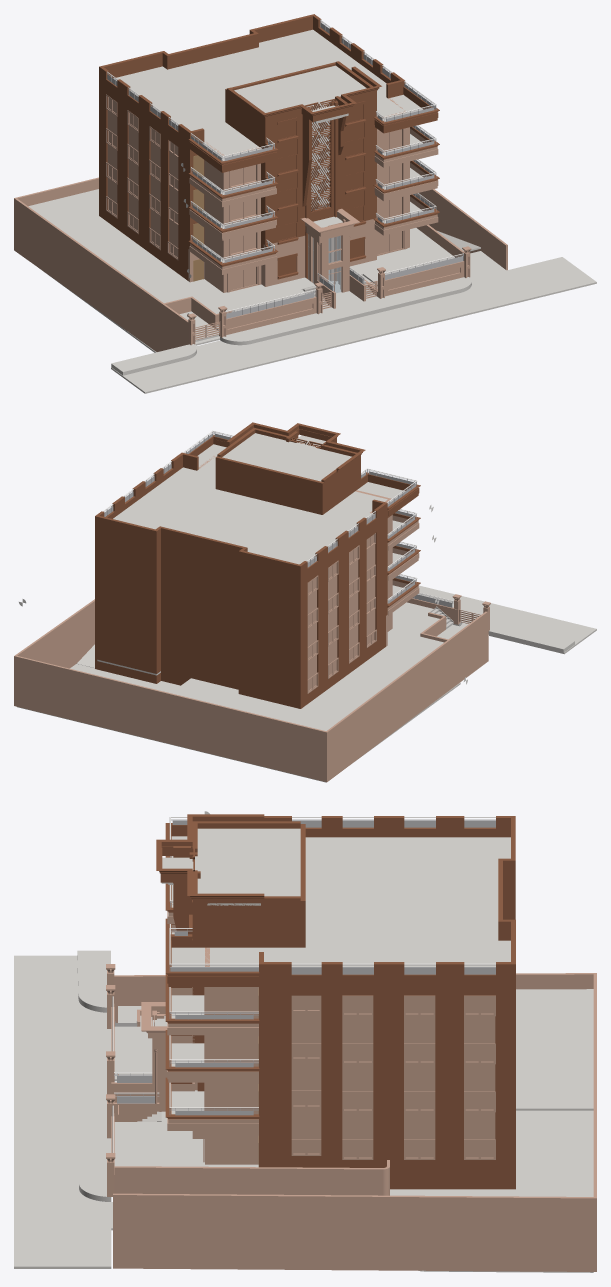
Rendered from villa.glb.
The picture shows the model from 3 angles, top to bottom: view 1: azimuth 30°, elevation 25°; view 2: azimuth 150°, elevation 25°; view 3: azimuth 270°, elevation 25°; orthographic projection. The views are drawn at different scales.
Visible parts, largest first — view 1: Floor Generic 150mm 8 [526761], Floor Generic 150mm [468300], Floor Generic 150mm 9 [529306], Basic Wall Generic - 200mm 14 [525457], Basic Wall Generic - 300mm 10 [352356], Floor Generic 150mm 10 [544870], Walls 5 Walls 5 [567814], Basic Wall Generic - 200mm 26 [570264], Floor Generic 150mm 7 [517430], Basic Wall Generic - 200mm 30 [628666], Basic Wall Generic - 200mm 26 [569431], Basic Wall Generic - 200mm 14 [525061] (+31 smaller); view 2: Basic Wall Generic - 200mm 14 [525209], Floor Generic 150mm [468300], Basic Wall Generic - 300mm [349264], Basic Wall Generic - 300mm [349681], Basic Wall Generic - 300mm [349041], Basic Wall Generic - 200mm 14 [525457], Floor Generic 150mm 9 [529306], Basic Wall Generic - 300mm 10 [352356], Basic Wall Generic - 300mm [467494], Floor Generic 150mm 7 [517430], Floor Generic 150mm 8 [526761], Basic Wall Generic - 200mm 14 [525061] (+11 smaller); view 3: Basic Wall Generic - 200mm 14 [525061], Basic Wall Generic - 300mm 10 [640570], Floor Generic 150mm [468300], Floor Generic 150mm 8 [526761], Floor Generic 150mm 9 [529306], Basic Wall Generic - 200mm 30 [640735], Floor Generic 150mm 8 [528079], Basic Wall Generic - 200mm 14 [526504], Floor Generic 150mm 7 [517430], Basic Wall Generic - 200mm 28 [640920], Floor Generic 150mm 10 [544870], Basic Wall Generic - 300mm [562164] (+23 smaller).
Boxes of the visible parts, left/top/right/bottom form: Floor Generic 150mm 8 [526761]: left=111, top=251, right=596, bottom=393; Floor Generic 150mm [468300]: left=113, top=29, right=423, bottom=160; Floor Generic 150mm 9 [529306]: left=28, top=189, right=454, bottom=313; Basic Wall Generic - 200mm 14 [525457]: left=15, top=198, right=189, bottom=351; Basic Wall Generic - 300mm 10 [352356]: left=101, top=67, right=190, bottom=280; Floor Generic 150mm 10 [544870]: left=111, top=277, right=471, bottom=375; Walls 5 Walls 5 [567814]: left=188, top=86, right=439, bottom=279; Basic Wall Generic - 200mm 26 [570264]: left=231, top=129, right=401, bottom=289; Floor Generic 150mm 7 [517430]: left=234, top=65, right=366, bottom=112; Basic Wall Generic - 200mm 30 [628666]: left=107, top=97, right=178, bottom=258; Basic Wall Generic - 200mm 26 [569431]: left=278, top=104, right=363, bottom=275; Basic Wall Generic - 200mm 14 [525061]: left=416, top=189, right=507, bottom=270; Basic Wall Generic - 200mm 14 [525209]: left=16, top=656, right=328, bottom=782; Floor Generic 150mm [468300]: left=113, top=444, right=405, bottom=564; Basic Wall Generic - 300mm [349264]: left=158, top=526, right=243, bottom=689; Basic Wall Generic - 300mm [349681]: left=95, top=515, right=155, bottom=683; Basic Wall Generic - 300mm [349041]: left=241, top=550, right=302, bottom=708; Basic Wall Generic - 200mm 14 [525457]: left=326, top=611, right=488, bottom=780; Floor Generic 150mm 9 [529306]: left=171, top=602, right=443, bottom=730; Basic Wall Generic - 300mm 10 [352356]: left=300, top=503, right=385, bottom=707; Basic Wall Generic - 300mm [467494]: left=215, top=456, right=324, bottom=514; Floor Generic 150mm 7 [517430]: left=222, top=433, right=351, bottom=481; Floor Generic 150mm 8 [526761]: left=418, top=585, right=596, bottom=654; Basic Wall Generic - 200mm 14 [525061]: left=14, top=599, right=94, bottom=706; Basic Wall Generic - 200mm 14 [525061]: left=113, top=1193, right=596, bottom=1271; Basic Wall Generic - 300mm 10 [640570]: left=259, top=962, right=510, bottom=1189; Floor Generic 150mm [468300]: left=171, top=836, right=510, bottom=966; Floor Generic 150mm 8 [526761]: left=14, top=955, right=112, bottom=1268; Floor Generic 150mm 9 [529306]: left=114, top=989, right=593, bottom=1167; Basic Wall Generic - 200mm 30 [640735]: left=291, top=1010, right=495, bottom=1158; Floor Generic 150mm 8 [528079]: left=390, top=1110, right=593, bottom=1272; Basic Wall Generic - 200mm 14 [526504]: left=114, top=1166, right=382, bottom=1195; Floor Generic 150mm 7 [517430]: left=195, top=828, right=300, bottom=905; Basic Wall Generic - 200mm 28 [640920]: left=293, top=997, right=493, bottom=1157; Floor Generic 150mm 10 [544870]: left=77, top=950, right=111, bottom=1201; Basic Wall Generic - 300mm [562164]: left=197, top=896, right=300, bottom=1091.
Size of the model in its own units: 45.3 by 21.07 by 35.88.
